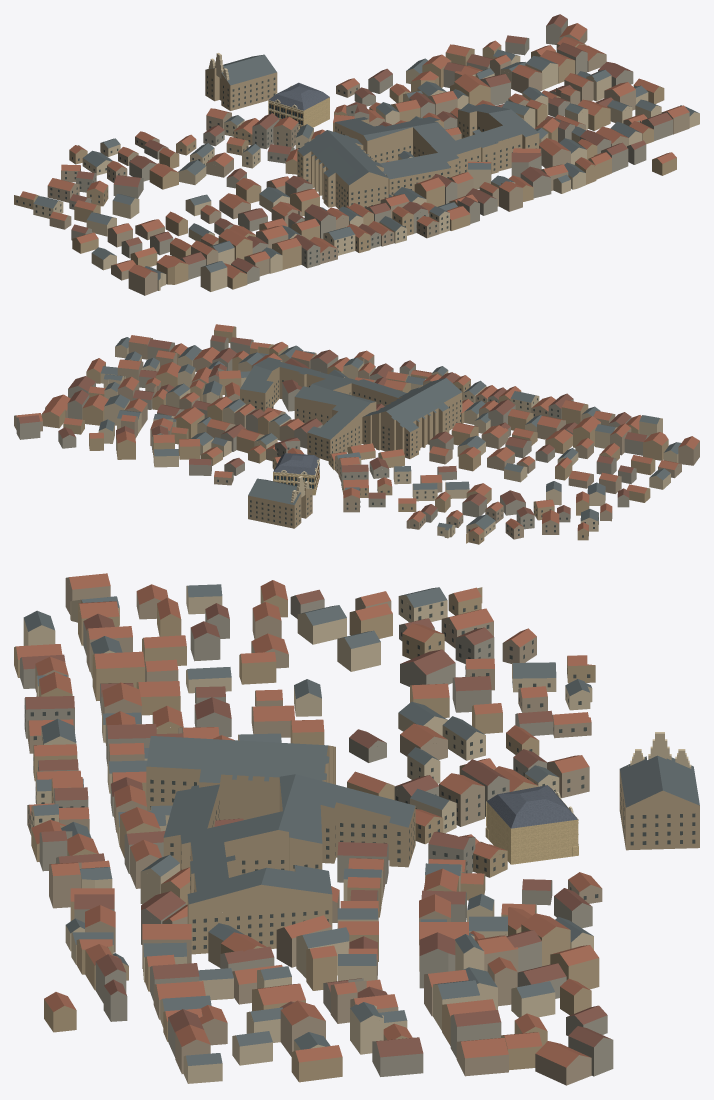
3 views of the same model, one above another, from view 1: azimuth 30°, elevation 25°; view 2: azimuth 150°, elevation 25°; view 3: azimuth 270°, elevation 25° (orthographic). The views are drawn at different scales.
Visible parts, largest first — view 1: C_2_0; view 2: C_2_0; view 3: C_2_0.
Boxes of the visible parts, x1,y1,x2,y2 form: C_2_0: (14, 14, 699, 295); C_2_0: (14, 324, 699, 544); C_2_0: (14, 573, 699, 1085).
Size of the model in its own units: 368 by 28 by 220.
Materials: 25 (4 with a texture image).
